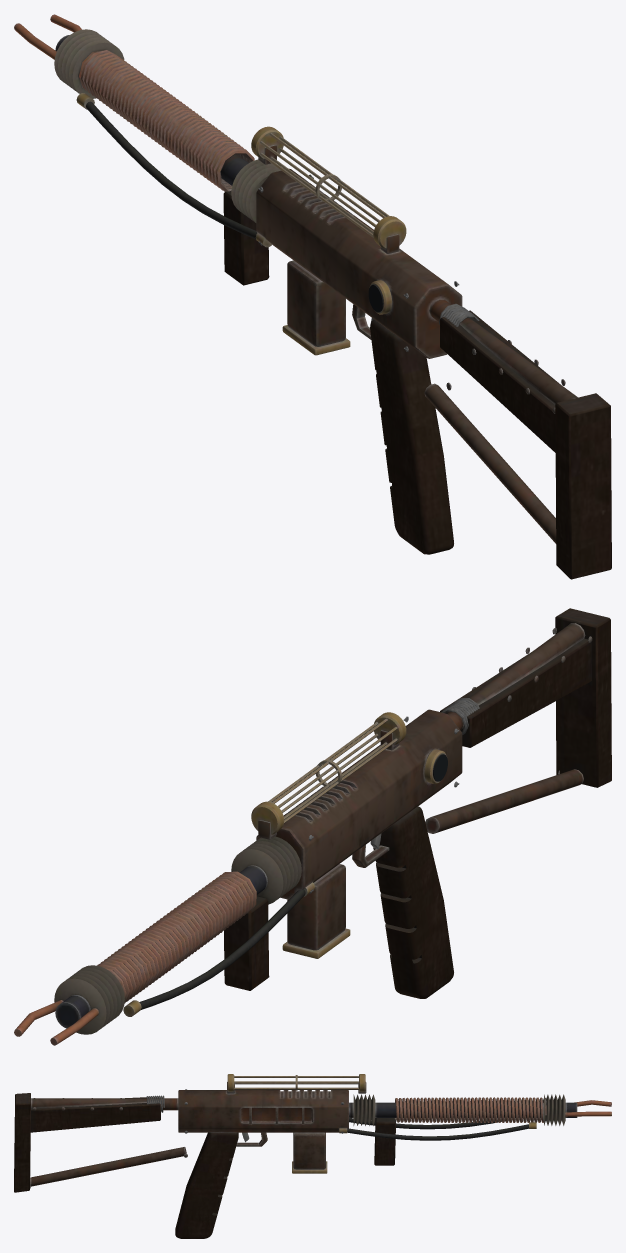
The model's file is raider_discharge_rifle.glb.
The picture shows the model from 3 angles, top to bottom: view 1: azimuth 30°, elevation 25°; view 2: azimuth 150°, elevation 25°; view 3: azimuth 270°, elevation 25°; orthographic projection. The views are drawn at different scales.
Visible parts, largest first — view 1: raider_discharge_rifle; view 2: raider_discharge_rifle; view 3: raider_discharge_rifle.
Boxes of the visible parts, left/top/right/bottom form: raider_discharge_rifle: left=14, top=14, right=611, bottom=579; raider_discharge_rifle: left=14, top=608, right=611, bottom=1045; raider_discharge_rifle: left=14, top=1074, right=611, bottom=1238.
Bounding box in the file's own units: 0.067 × 0.3117 × 1.05.
Materials: 1 (1 with a texture image).
